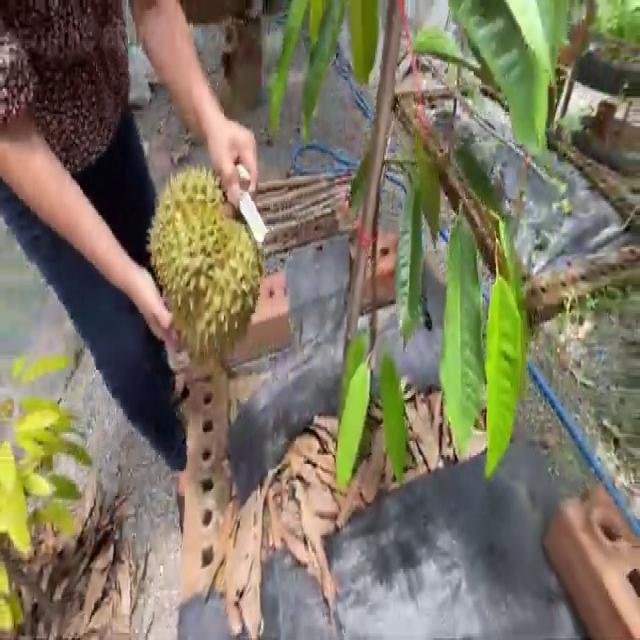durian: (146, 160, 269, 365)
